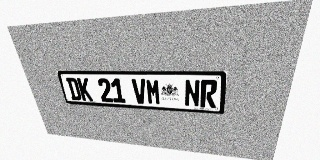1: (109, 78, 126, 103)
2: (97, 78, 113, 102)
D: (66, 78, 82, 100)
K: (77, 78, 93, 101)
M: (145, 79, 161, 105)
N: (184, 79, 200, 107)
R: (200, 80, 218, 108)
V: (131, 79, 147, 104)
